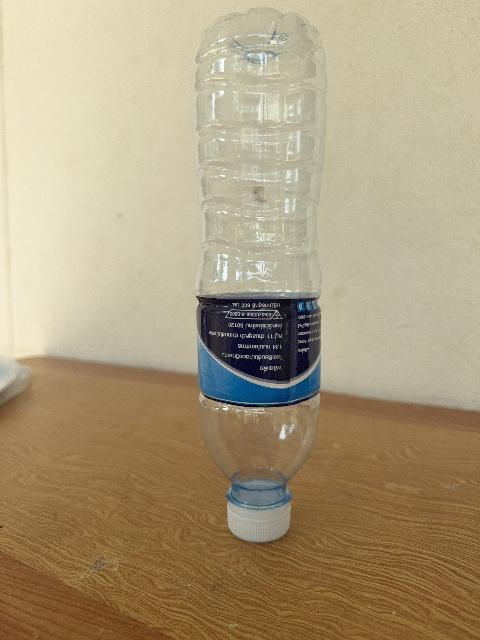bottle: (194, 9, 326, 541)
